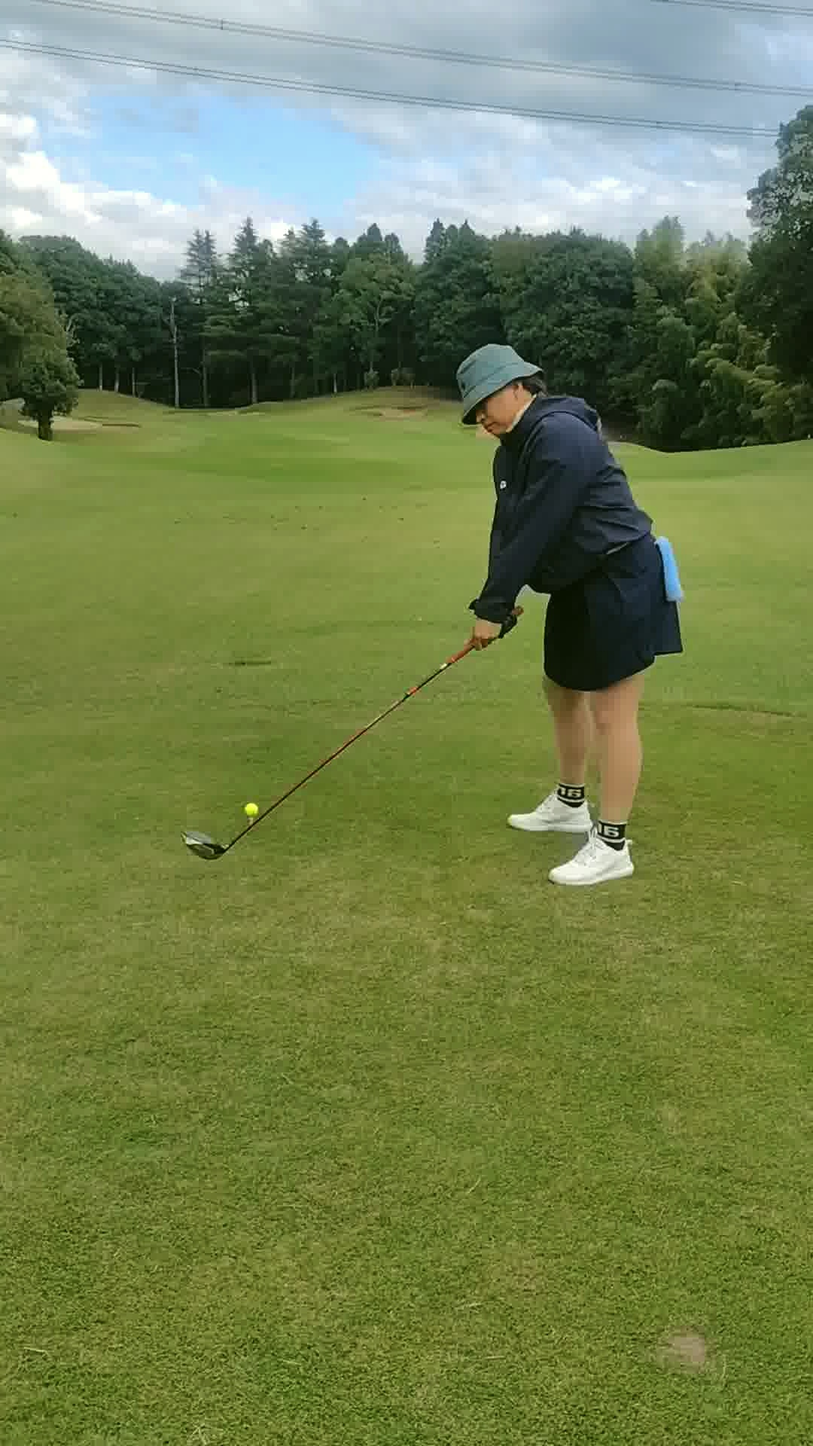clubhead: (112, 764, 325, 970)
